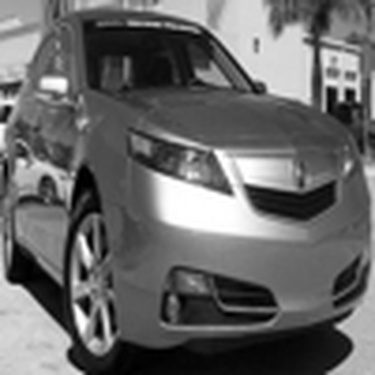car: (6, 2, 370, 373), (6, 135, 76, 212), (330, 95, 366, 133), (4, 83, 18, 166), (351, 108, 370, 154)
